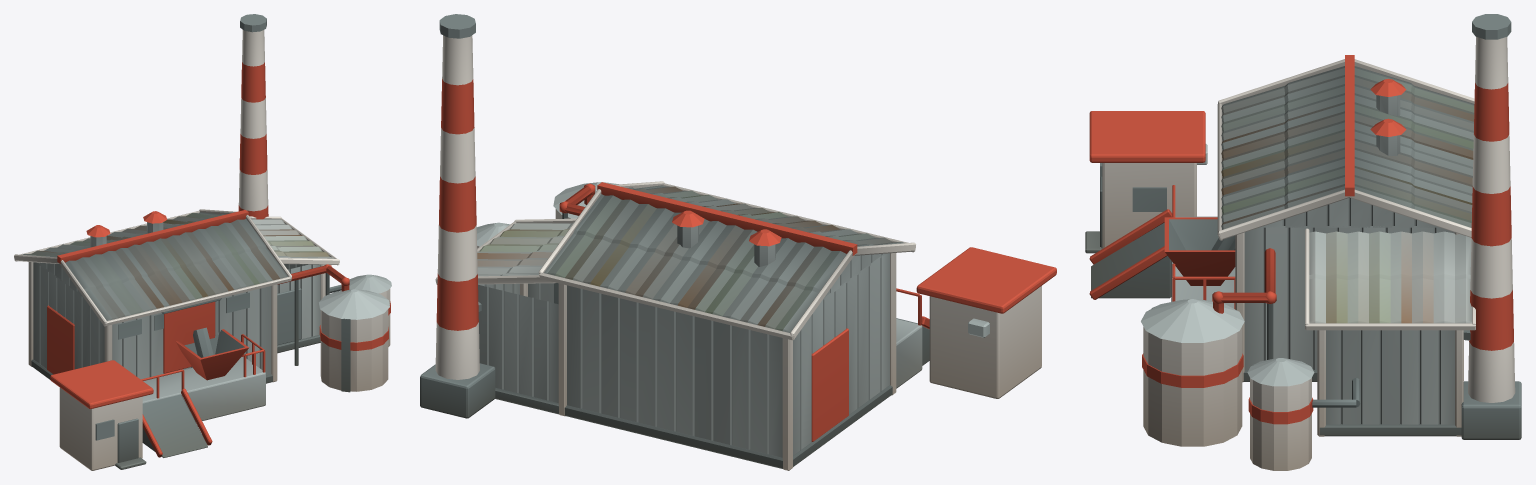
File: pabrik.glb
3 views of the same model, side by side, from view 1: azimuth 30°, elevation 25°; view 2: azimuth 150°, elevation 25°; view 3: azimuth 270°, elevation 25° (orthographic). The views are drawn at different scales.
Parts seen in each view (by area): view 1: pabrik_mesh; view 2: pabrik_mesh; view 3: pabrik_mesh.
Part boxes in pixels (x1,y1,x2,y2): pabrik_mesh: (14, 14, 391, 470); pabrik_mesh: (420, 14, 1056, 470); pabrik_mesh: (1085, 14, 1521, 470).
Size of the model in its own units: 14.16 by 10.43 by 10.15.
